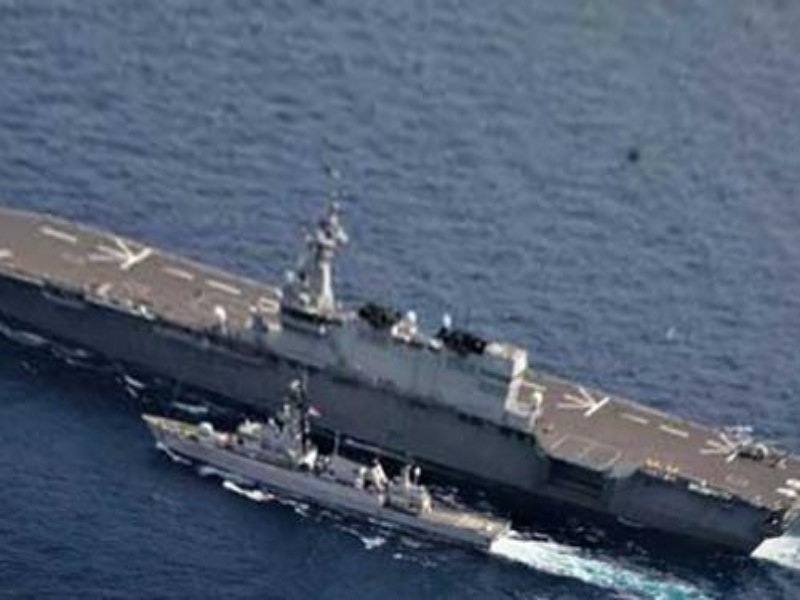carrier: (10, 188, 793, 556)
cruise: (147, 415, 512, 551)
